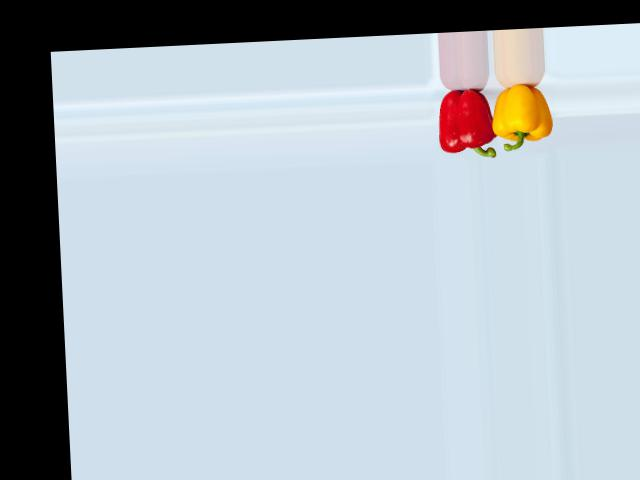bell_pepper: (431, 80, 498, 158)
